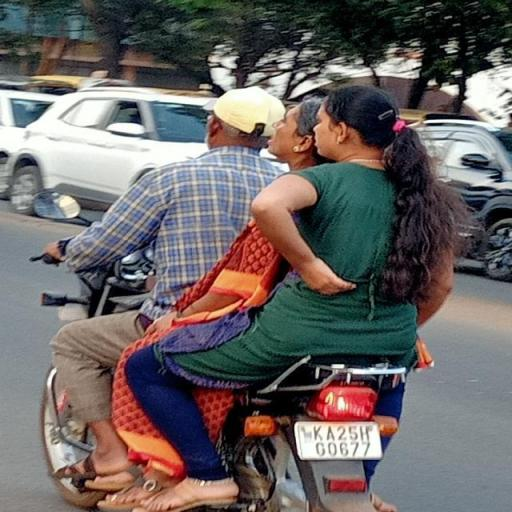tripple riding: (32, 76, 462, 345)
